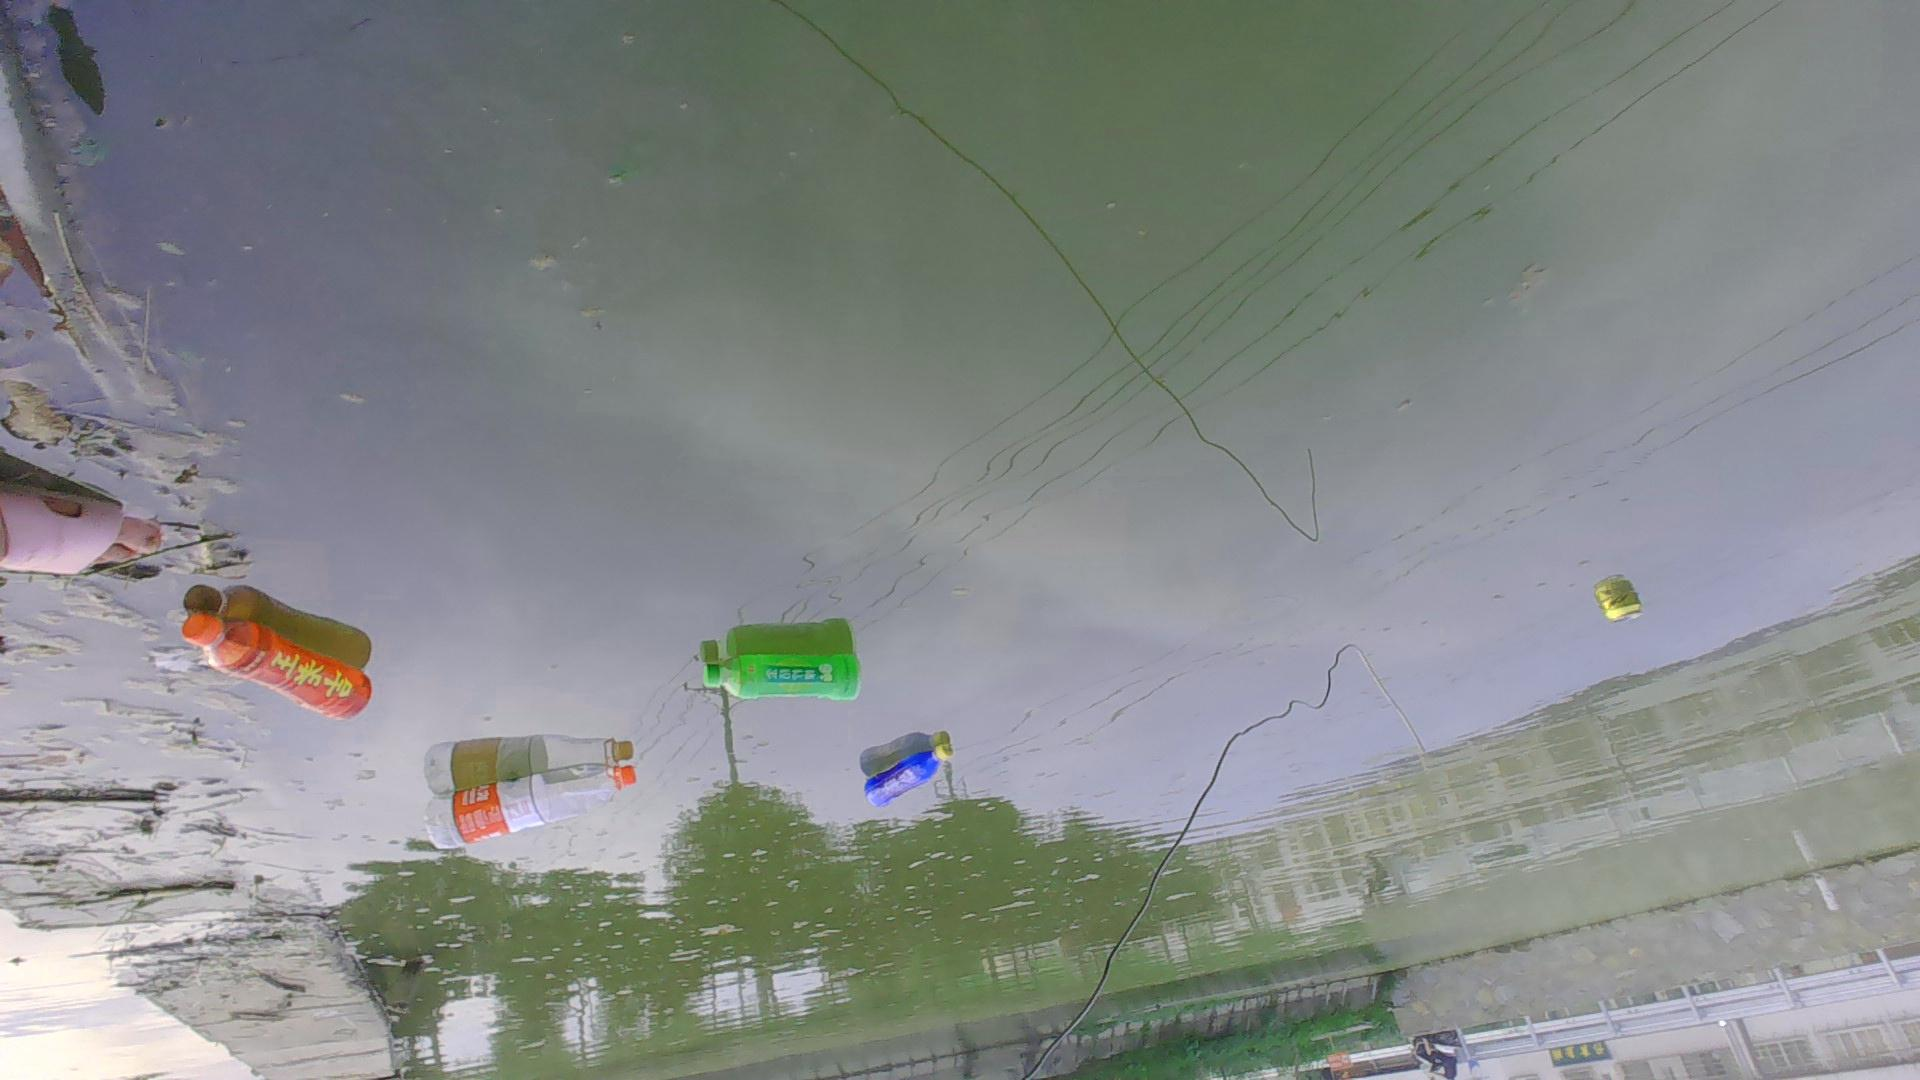Metal: (1585, 563, 1651, 632)
Plastic: (413, 752, 642, 860), (179, 609, 378, 725), (691, 641, 866, 704), (858, 738, 957, 816)
